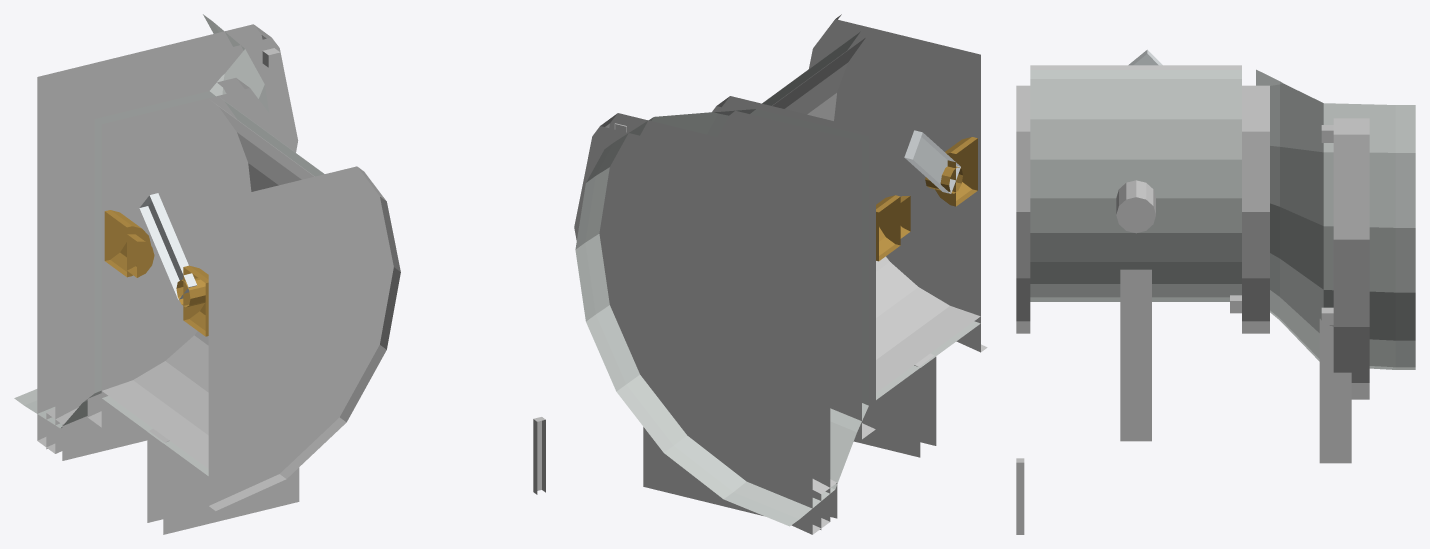
The model's file is cell_39.obj.
The picture shows the model from 3 angles, left to right: view 1: azimuth 30°, elevation 25°; view 2: azimuth 150°, elevation 25°; view 3: azimuth 270°, elevation 25°; orthographic projection.
Bounding box in the file's own units: 0.945 × 1 × 1.
